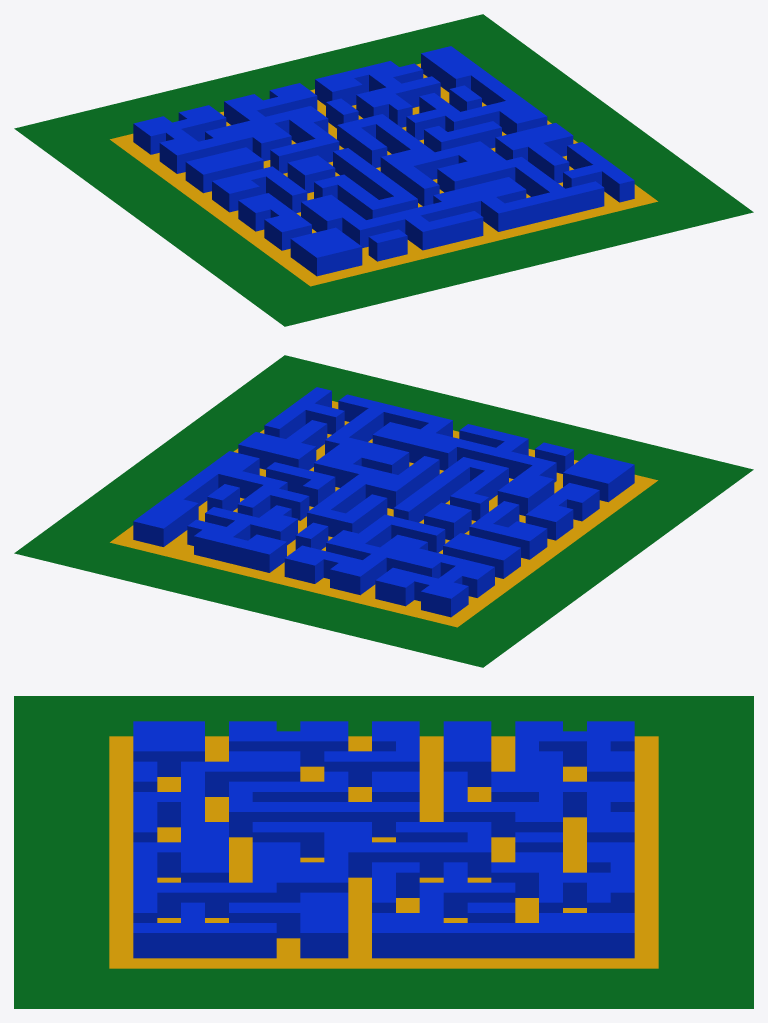
File: NewMap01.fbx
3 renders of one model, top to bottom at view 1: azimuth 30°, elevation 25°; view 2: azimuth 150°, elevation 25°; view 3: azimuth 270°, elevation 25°, orthographic. The views are drawn at different scales.
Parts seen in each view (by area): view 1: Plane; view 2: Plane; view 3: Plane.
Part boxes in pixels (x1,y1,x2,y2): Plane: [14, 14, 753, 326]; Plane: [14, 355, 753, 667]; Plane: [14, 696, 753, 1008].
Size of the model in its own units: 5902 by 223 by 5902.
